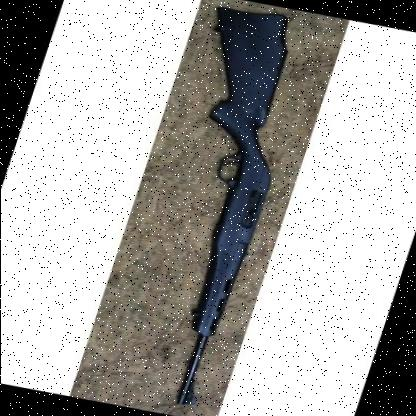rifle: (95, 6, 327, 406)
